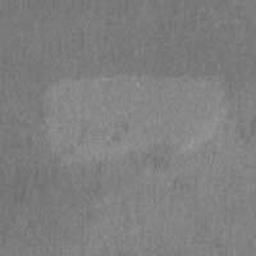Oil spot: (41, 70, 230, 166)
